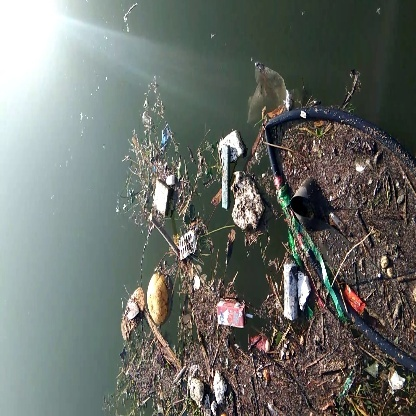plastic-bag: (237, 56, 295, 122)
